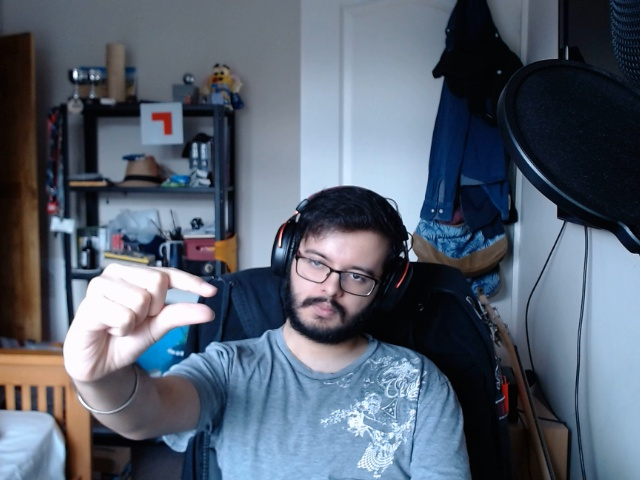Small: (51, 244, 236, 389)
